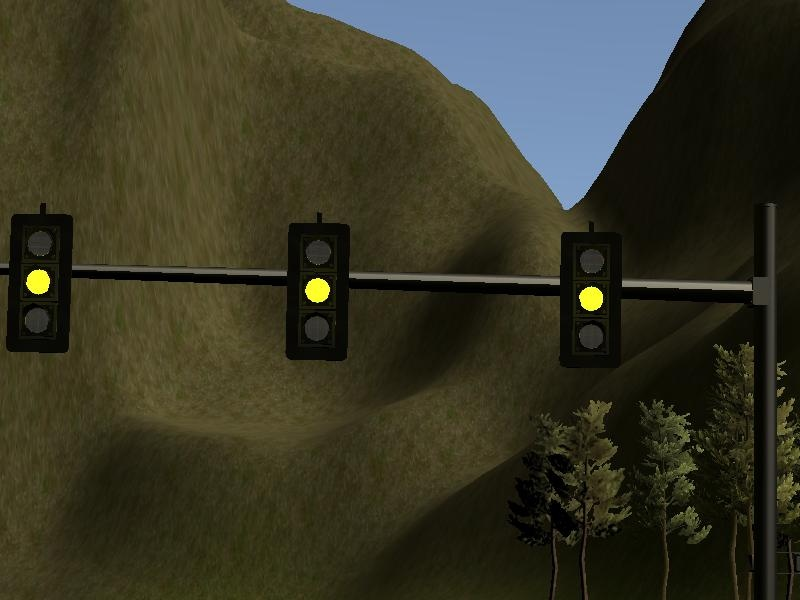YELLOW: (7, 214, 70, 353), (287, 223, 350, 362), (557, 228, 620, 367)
